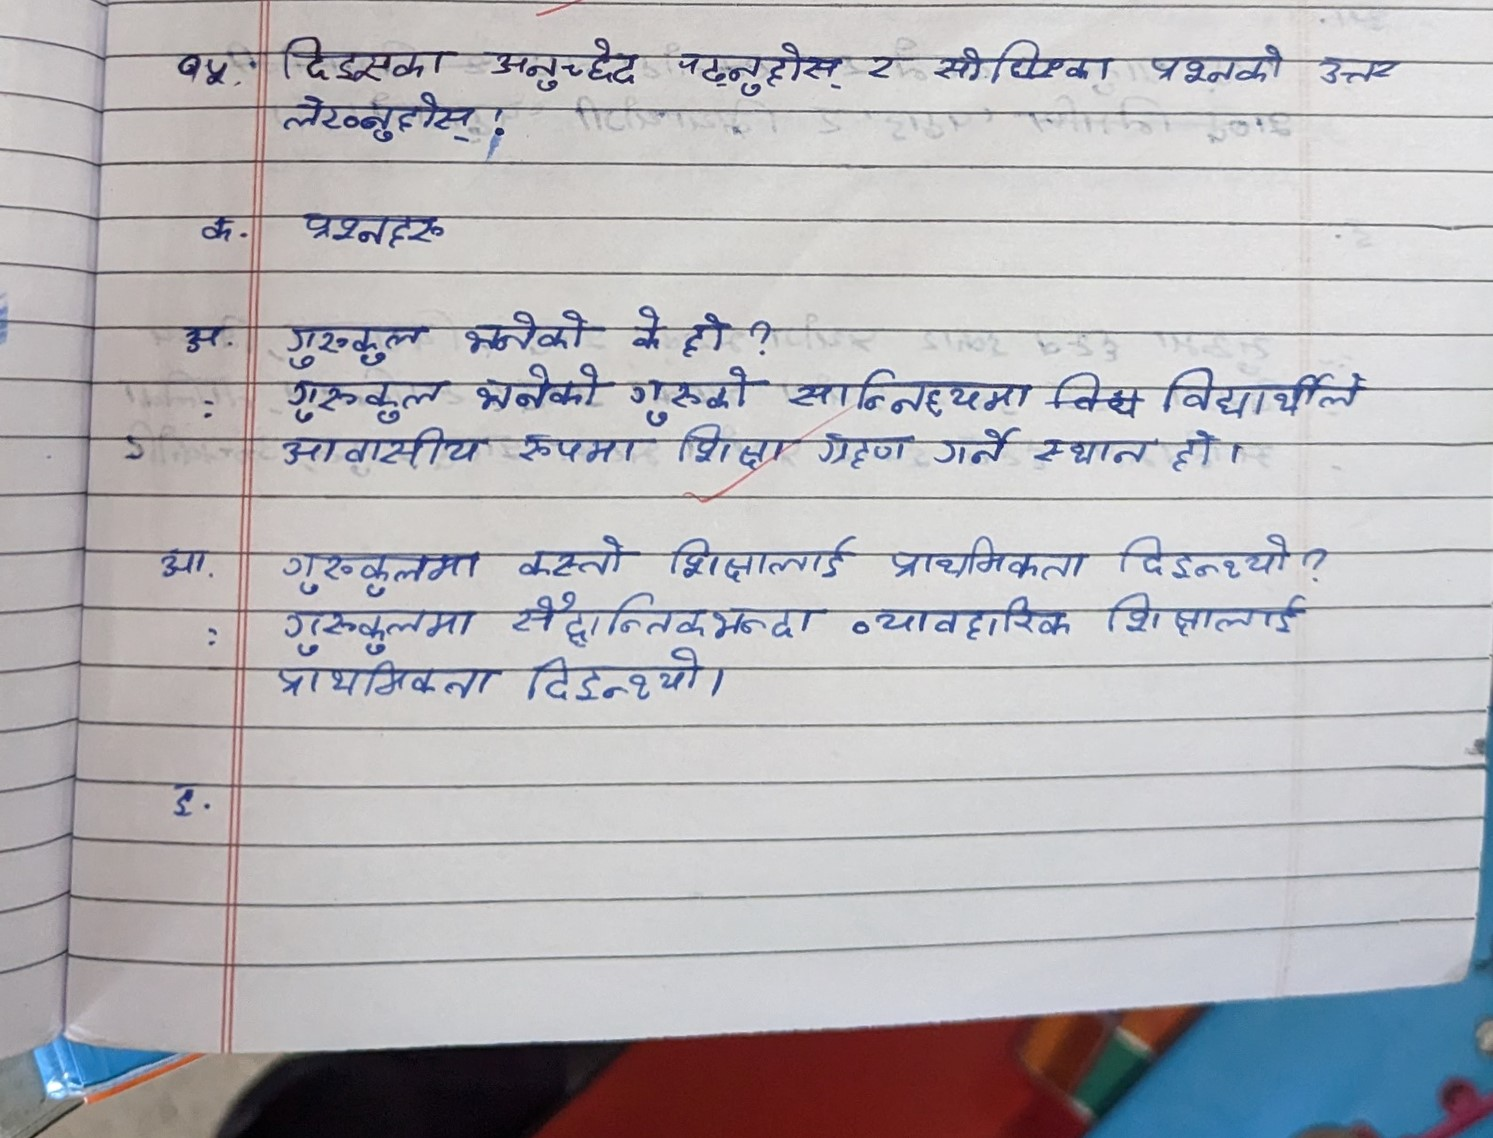text: (510, 589, 820, 646), (283, 179, 459, 256), (932, 27, 1120, 98), (263, 24, 461, 90), (781, 367, 1032, 418), (276, 88, 476, 152), (265, 656, 498, 709), (265, 545, 482, 600), (667, 525, 853, 588), (273, 604, 475, 657), (1164, 366, 1364, 420), (525, 646, 700, 704), (673, 41, 845, 98), (1100, 591, 1304, 638), (273, 308, 433, 369), (876, 534, 1139, 570), (845, 598, 1070, 640), (1145, 33, 1296, 96), (1109, 532, 1289, 580), (284, 426, 481, 469), (282, 375, 449, 424), (492, 36, 644, 90), (467, 357, 604, 416), (631, 365, 755, 426), (677, 420, 787, 473), (509, 532, 628, 580), (455, 311, 594, 351), (1314, 45, 1416, 99), (514, 432, 649, 471), (1033, 430, 1149, 471), (816, 430, 911, 479), (180, 198, 253, 253), (165, 37, 232, 96), (928, 426, 1018, 469), (151, 534, 224, 587), (159, 310, 230, 355), (680, 306, 730, 359), (153, 770, 206, 820), (1170, 424, 1219, 475), (630, 288, 662, 360), (857, 48, 895, 82)
